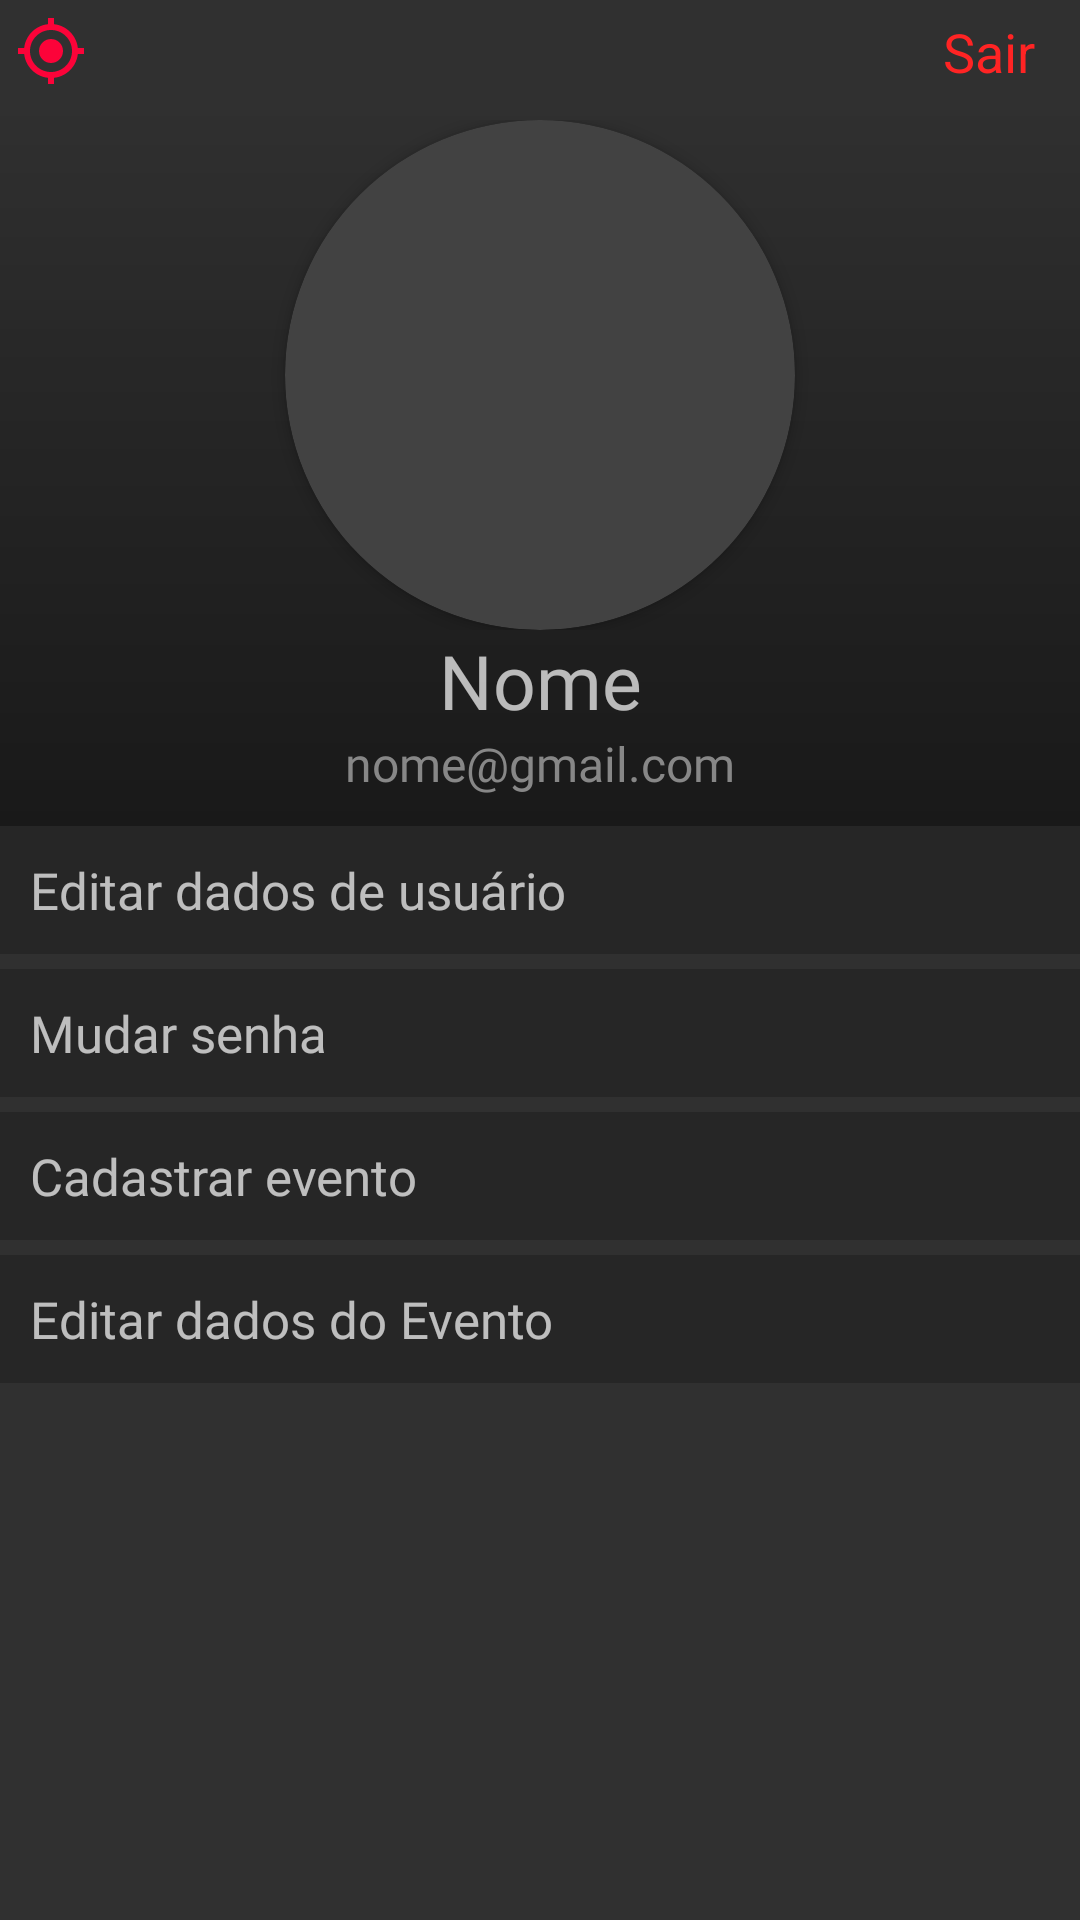

Icon click points for this 1080px x 1920px phone screenshot, format [x,y]:
gps fixed: [51,51]
